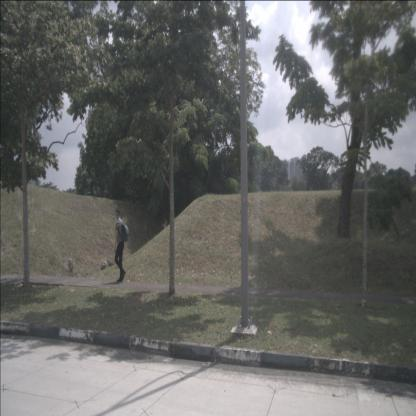human-pedestrian-adult: (114, 208, 129, 283)
